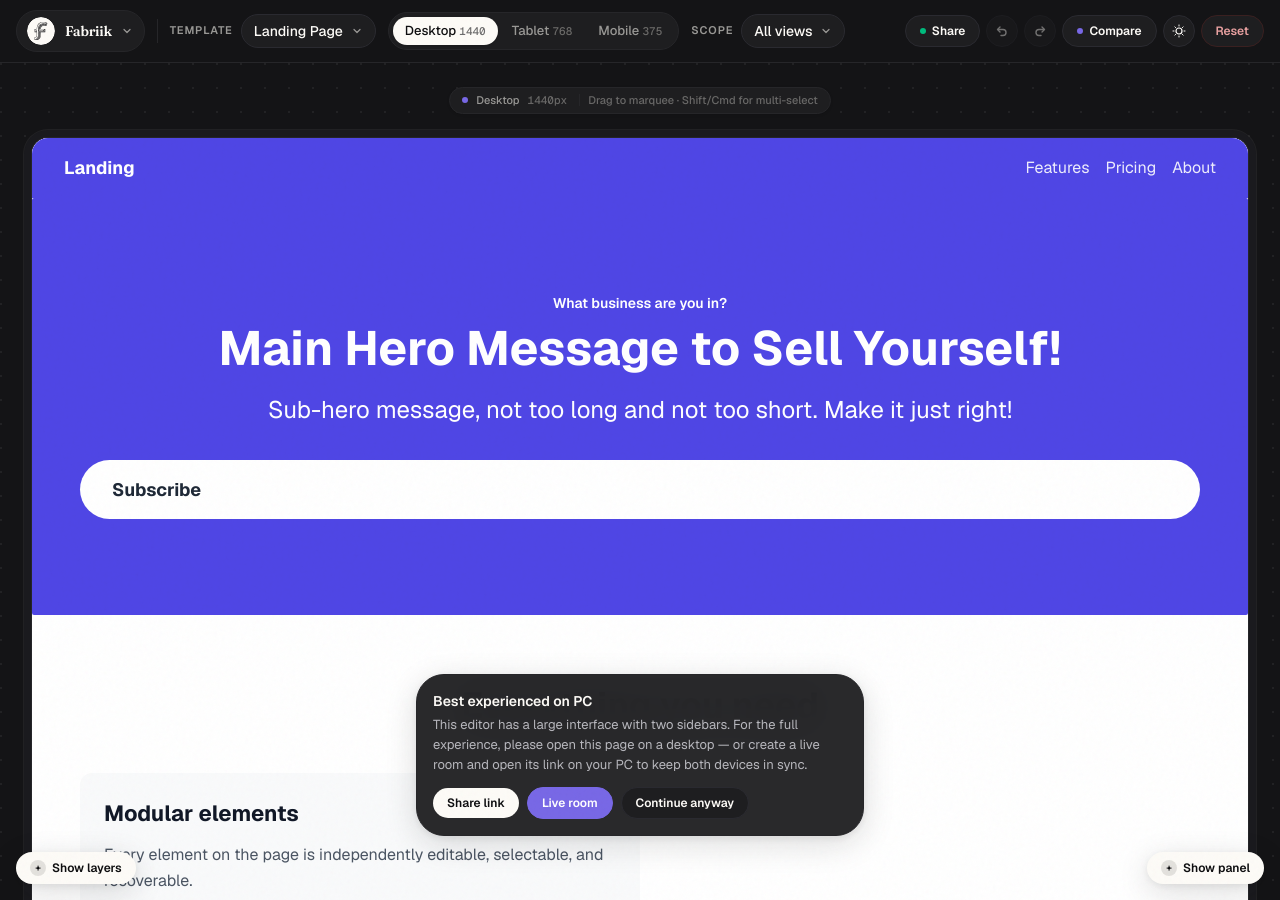
Test: EditorShell mobile experience › shows the nudge and collapses both sidebars on mobile
Expected: the message with test id "mobile-experience-notice" is shown, [416,674,864,836]
Expected: the button with aria-label "Show layers panel" is shown, [16,852,136,884]
Click the button with test id "mobile-continue-button" at point(685, 803), box [621,787,749,819]
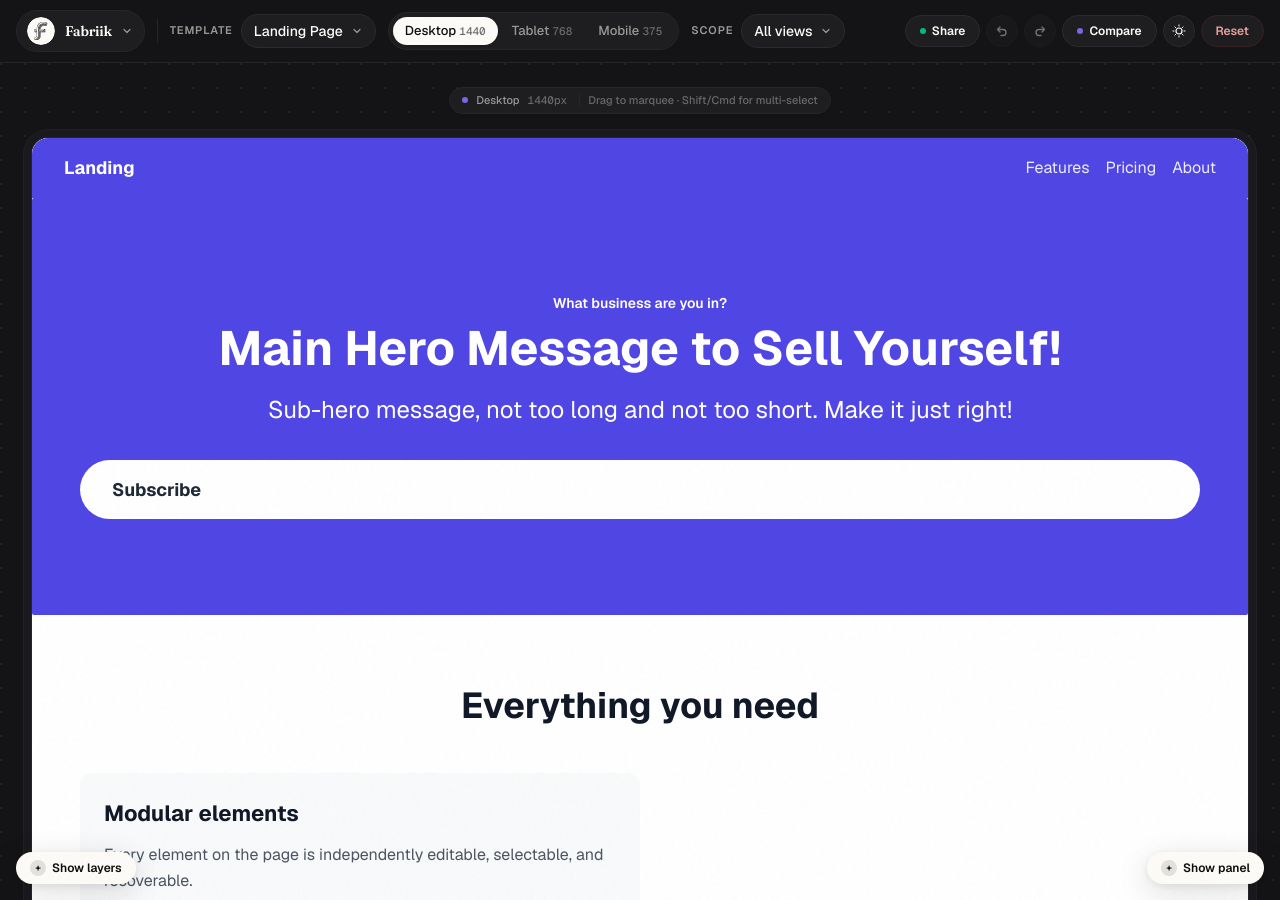
Expected: the message with test id "mobile-experience-notice" is gone
